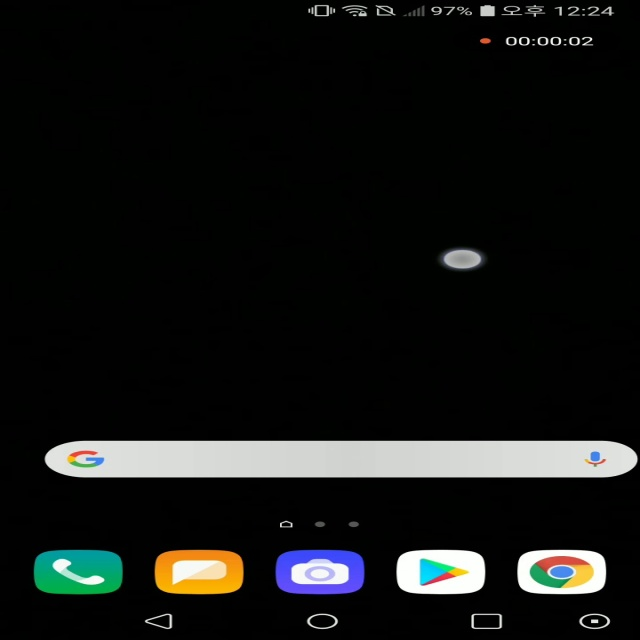Cursor: (440, 248, 484, 271)
